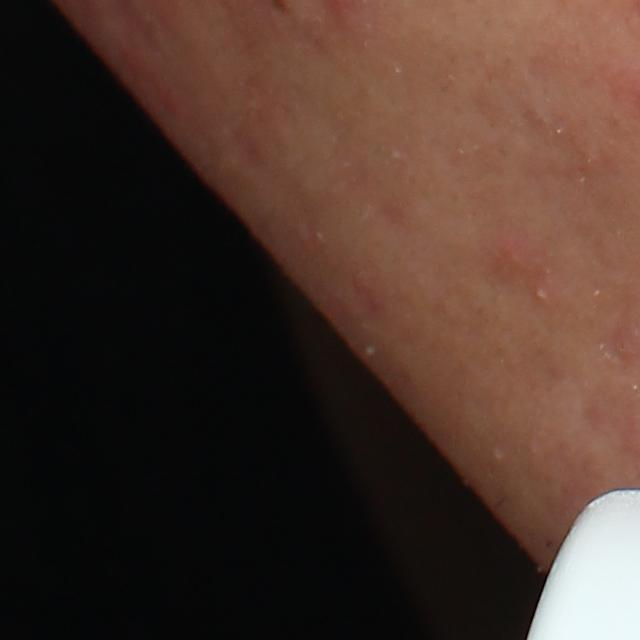papule: (479, 226, 537, 286)
pustule: (531, 281, 554, 303)
